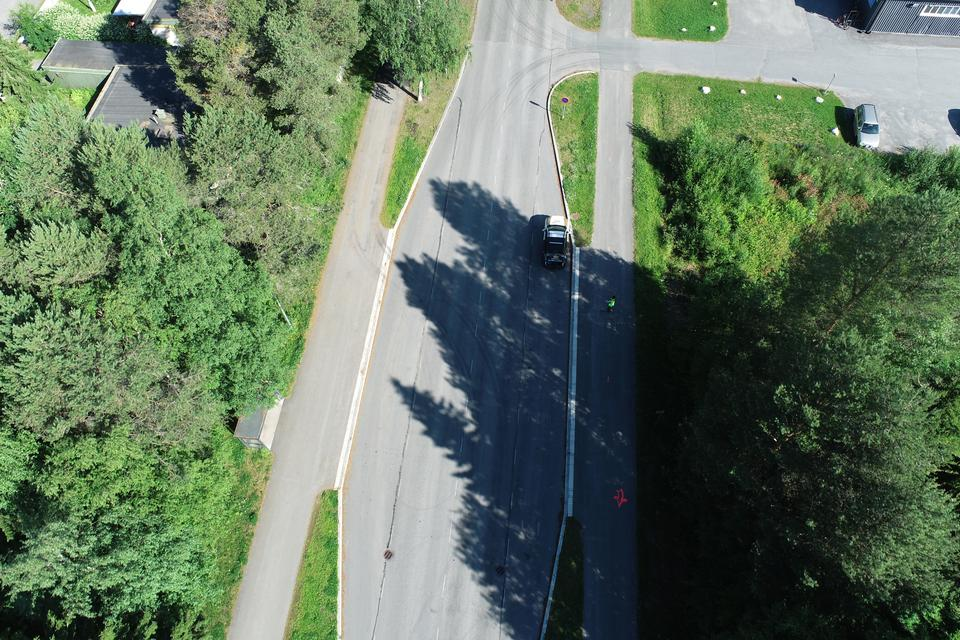intersection: (450, 0, 663, 98)
